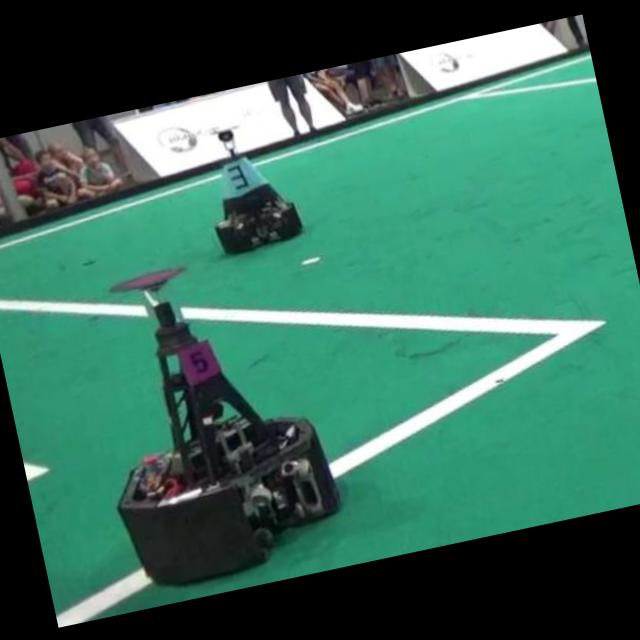robot: (111, 267, 339, 583), (215, 127, 302, 251)
